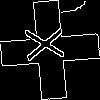X: (25, 25, 74, 63)
